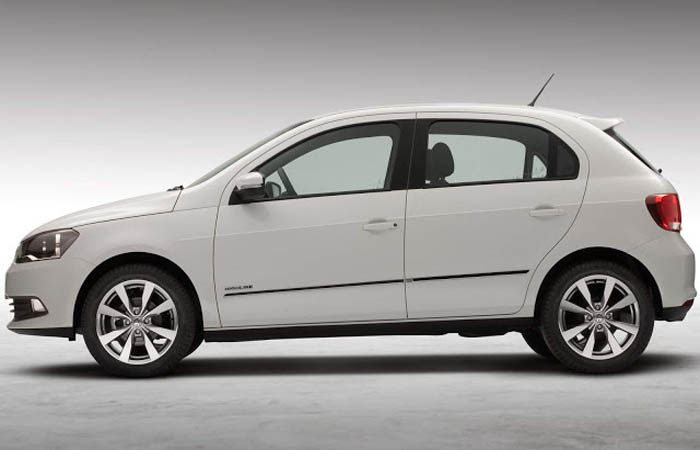Carro: (1, 88, 699, 378)
